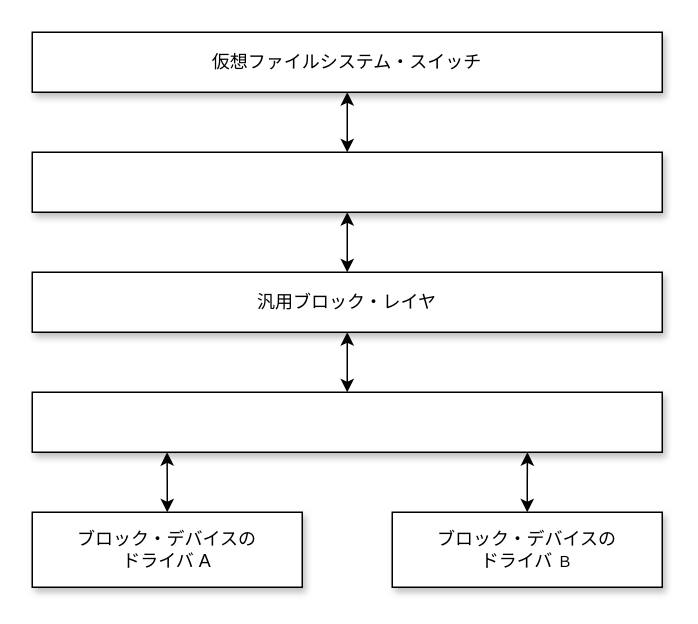
This 698x624 diagram has some shape labels left out. The shapes that lost their labels are listed below. From the top down, each one's centre as x and y in pixels, then its label:
(x=348, y=184): デバイス・マッパ
(x=348, y=424): I/O スケジューラ
